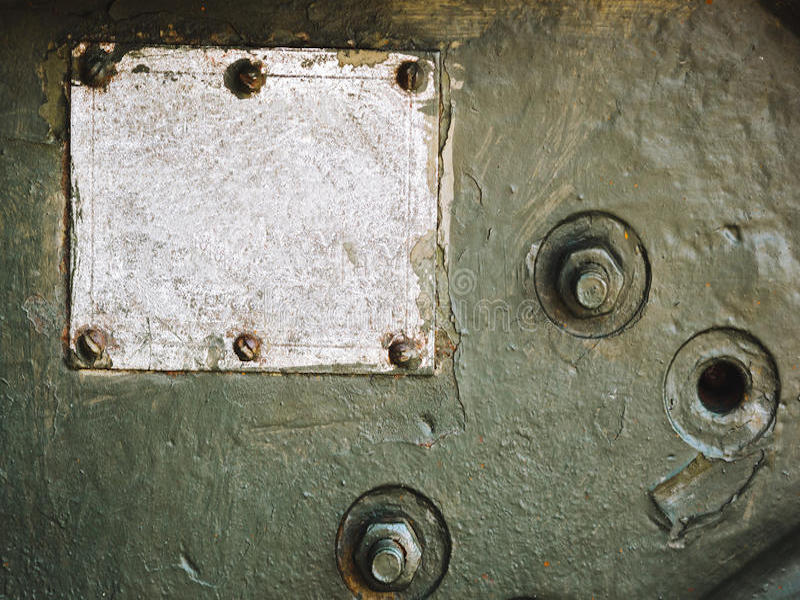bolt: (351, 518, 425, 594), (556, 243, 627, 321)
hole: (693, 354, 751, 420)
screw: (232, 330, 262, 364), (233, 63, 264, 94), (396, 61, 426, 92), (80, 326, 108, 359), (83, 58, 109, 87), (388, 343, 411, 364)
